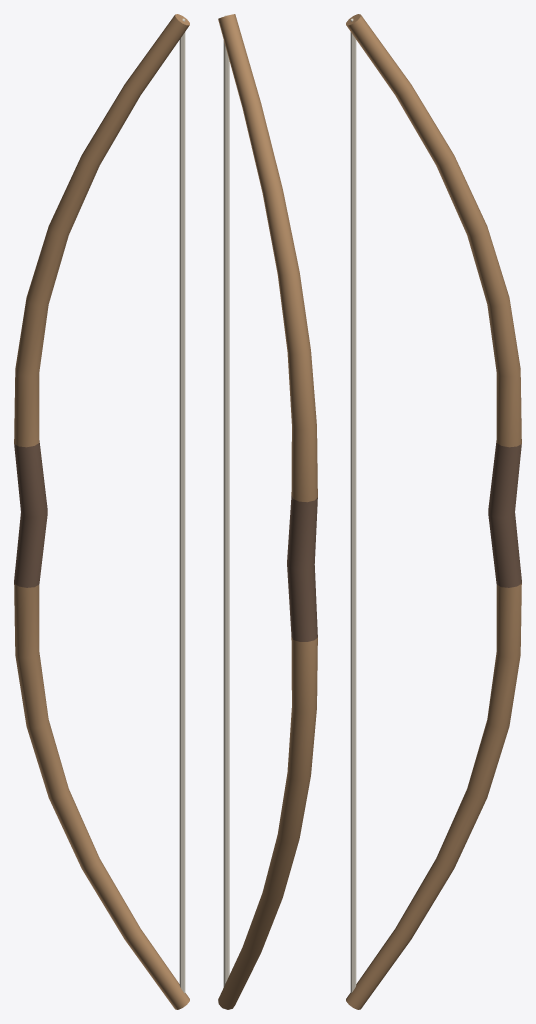
File: arco_caza.glb
The picture shows the model from 3 angles, left to right: view 1: azimuth 90°, elevation 25°; view 2: azimuth 210°, elevation 25°; view 3: azimuth 270°, elevation 25°; orthographic projection.
Visible parts, largest first — view 1: ArcoLeo; view 2: ArcoLeo; view 3: ArcoLeo.
Boxes of the visible parts, x1,y1,x2,y2 form: ArcoLeo: [14, 14, 189, 1009]; ArcoLeo: [218, 14, 317, 1009]; ArcoLeo: [346, 14, 521, 1009].
Bounding box in the file's own units: 0.034 × 1.33 × 0.2135.
